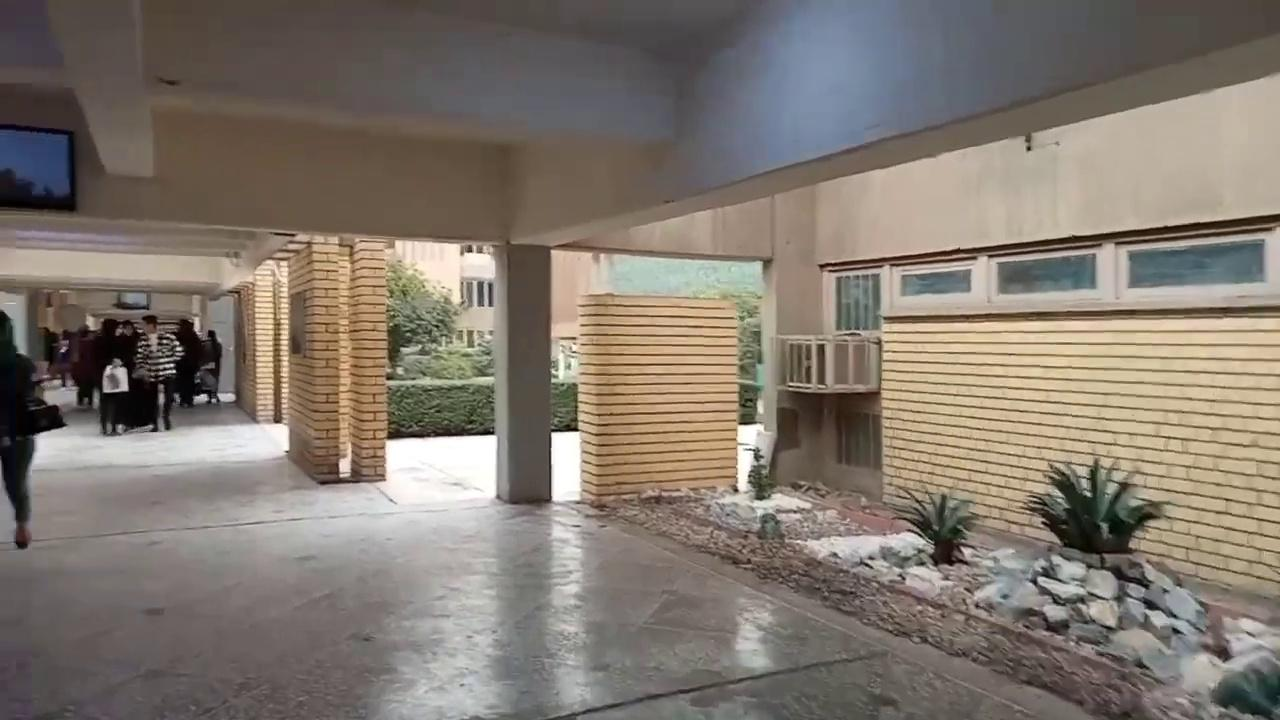person: (0, 310, 38, 548)
tree: (1023, 456, 1170, 559), (691, 282, 763, 423), (385, 257, 462, 369), (888, 481, 978, 564), (745, 443, 775, 500)
